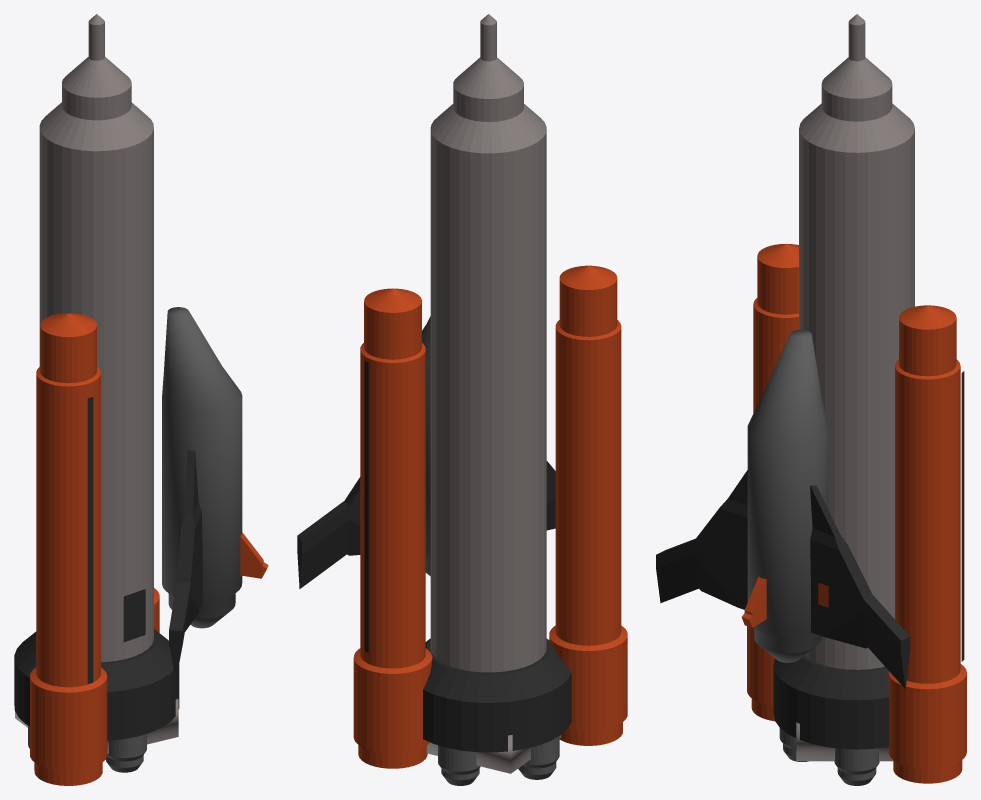
The model's file is rocket.gltf.
3 renders of one model, left to right at view 1: azimuth 30°, elevation 25°; view 2: azimuth 150°, elevation 25°; view 3: azimuth 270°, elevation 25°, orthographic.
Visible parts, largest first — view 1: Cylinder, Cylinder.006, Cylinder.008, Cylinder.001, Cube.002, Plane, Cylinder.005, Plane.002, Cube.003, Cube; view 2: Cylinder, Cylinder.006, Cylinder.007, Cylinder.001, Cube.001, Cylinder.008, Plane.001, Cylinder.004, Cube, Cylinder.003, Cube.002; view 3: Cylinder, Cylinder.007, Cylinder.008, Cylinder.001, Cube.001, Cylinder.006, Cube.002, Cylinder.002, Plane.001, Cube, Cube.003.
Boxes of the visible parts, x1,y1,x2,y2 form: Cylinder: [39, 14, 153, 662]; Cylinder.006: [30, 313, 107, 785]; Cylinder.008: [162, 307, 242, 628]; Cylinder.001: [14, 629, 179, 740]; Cube.002: [169, 449, 202, 680]; Plane: [87, 397, 93, 683]; Cylinder.005: [105, 734, 146, 772]; Plane.002: [123, 589, 145, 642]; Cube.003: [240, 532, 268, 578]; Cube: [15, 698, 178, 753]; Cylinder: [430, 14, 546, 672]; Cylinder.006: [549, 265, 627, 745]; Cylinder.007: [353, 288, 432, 768]; Cylinder.001: [423, 638, 571, 752]; Cube.001: [297, 477, 360, 588]; Cylinder.008: [422, 316, 430, 576]; Plane.001: [364, 361, 368, 652]; Cylinder.004: [438, 745, 480, 785]; Cube: [426, 735, 560, 773]; Cylinder.003: [518, 736, 559, 779]; Cube.002: [546, 461, 555, 530]; Cylinder: [799, 14, 914, 669]; Cylinder.007: [888, 305, 966, 783]; Cylinder.008: [747, 330, 828, 662]; Cylinder.001: [773, 655, 889, 749]; Cube.001: [810, 485, 910, 688]; Cylinder.006: [747, 243, 798, 721]; Cube.002: [656, 470, 747, 609]; Cylinder.002: [834, 748, 879, 785]; Plane.001: [961, 371, 964, 661]; Cube: [796, 722, 893, 761]; Cube.003: [741, 576, 766, 627].
Size of the model in its own units: 53.12 by 142 by 53.66.
